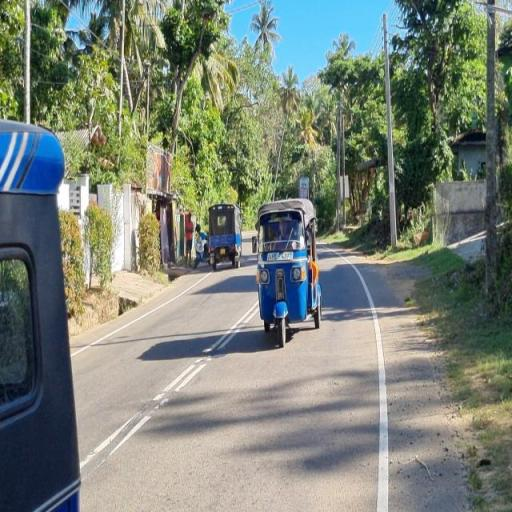double_white_line: (78, 303, 258, 470), (32, 476, 80, 511)
